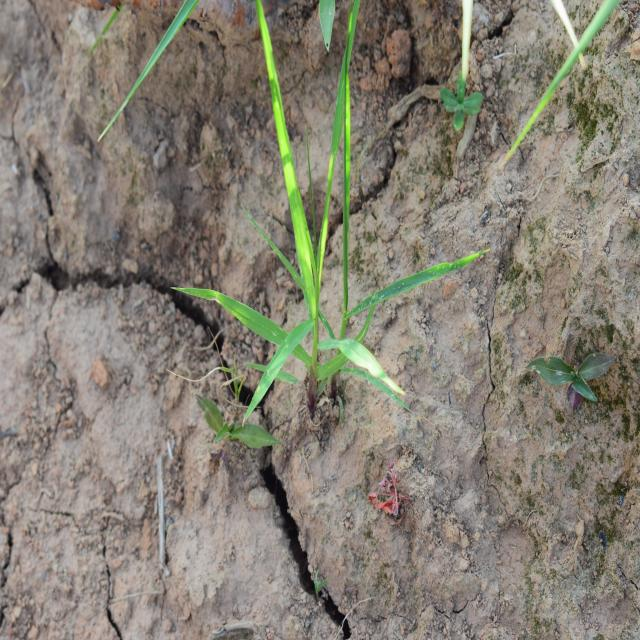green_foxtail: (196, 100, 412, 429)
